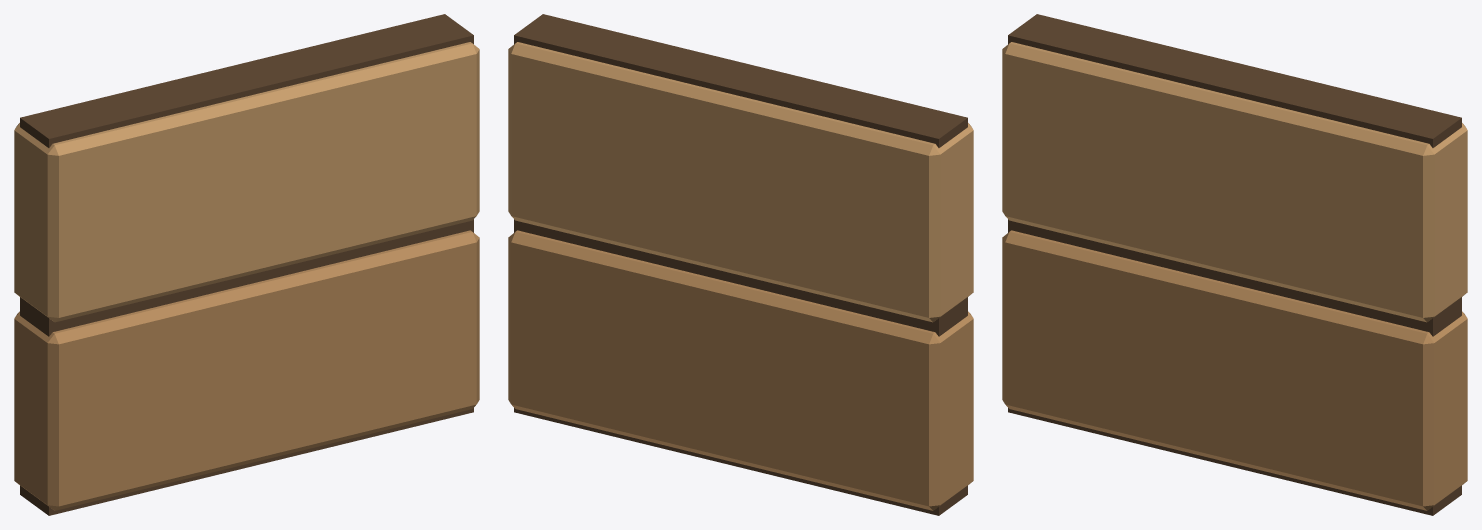
The model's file is mur_bois.glb.
3 views of the same model, side by side, from view 1: azimuth 30°, elevation 25°; view 2: azimuth 150°, elevation 25°; view 3: azimuth 330°, elevation 25° (orthographic).
Parts seen in each view (by area): view 1: mur_bois_planche.002, mur_bois_planche_claire.002, mur_bois_bois_sombre.002; view 2: mur_bois_planche.002, mur_bois_planche_claire.002, mur_bois_bois_sombre.002; view 3: mur_bois_planche.002, mur_bois_planche_claire.002, mur_bois_bois_sombre.002.
Part boxes in pixels (left/top/right/bottom): mur_bois_planche.002: left=14, top=230, right=479, bottom=510; mur_bois_planche_claire.002: left=14, top=42, right=479, bottom=322; mur_bois_bois_sombre.002: left=20, top=14, right=473, bottom=515; mur_bois_planche.002: left=508, top=230, right=973, bottom=510; mur_bois_planche_claire.002: left=508, top=42, right=973, bottom=322; mur_bois_bois_sombre.002: left=514, top=14, right=967, bottom=515; mur_bois_planche.002: left=1002, top=230, right=1467, bottom=510; mur_bois_planche_claire.002: left=1002, top=42, right=1467, bottom=322; mur_bois_bois_sombre.002: left=1008, top=14, right=1461, bottom=515.
Bounding box in the file's own units: 0.6 × 0.5 × 0.1.
